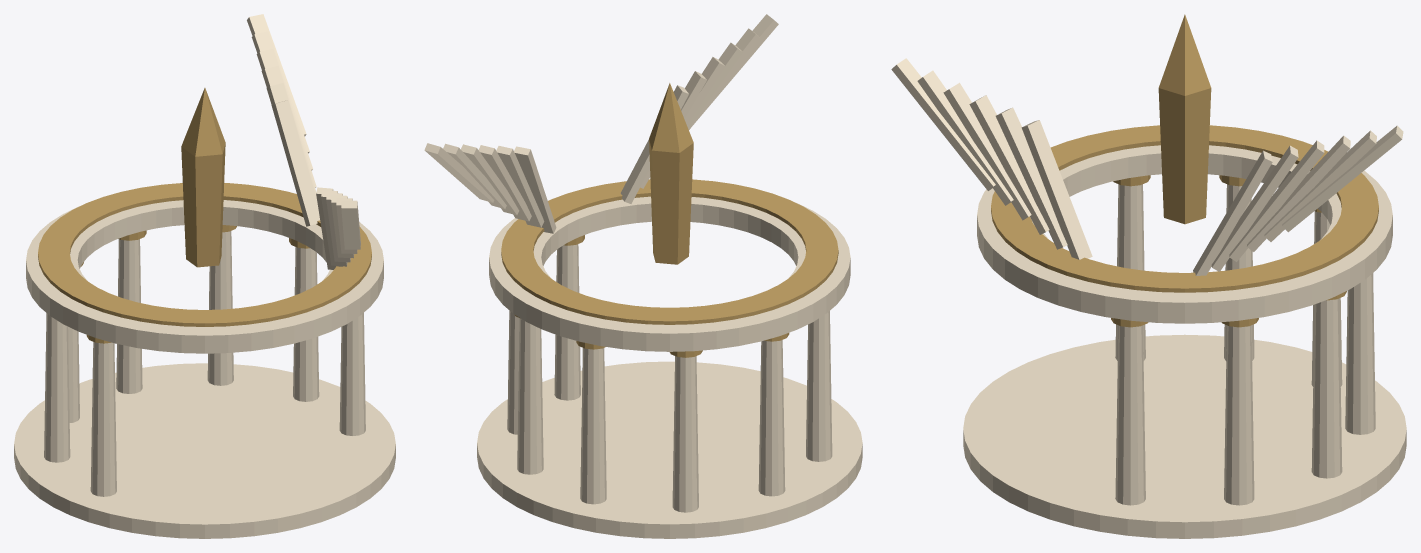
Rendered from Landmark_CelestialSummit.glb.
The picture shows the model from 3 angles, left to right: view 1: azimuth 30°, elevation 25°; view 2: azimuth 150°, elevation 25°; view 3: azimuth 270°, elevation 25°; orthographic projection. The views are drawn at different scales.
Visible parts, largest first — view 1: Landmark_CelestialSummit_CelestialSummit_stone_-6_1, Landmark_CelestialSummit_Aged gold_-6_1, Landmark_CelestialSummit_CelestialSummit_stone_-6_2; view 2: Landmark_CelestialSummit_CelestialSummit_stone_-6_1, Landmark_CelestialSummit_Aged gold_-6_1, Landmark_CelestialSummit_CelestialSummit_stone_-6_2; view 3: Landmark_CelestialSummit_CelestialSummit_stone_-6_1, Landmark_CelestialSummit_Aged gold_-6_1, Landmark_CelestialSummit_CelestialSummit_stone_-6_2.
Boxes of the visible parts, <box> form: Landmark_CelestialSummit_CelestialSummit_stone_-6_1: <box>14,65,395,538</box>; Landmark_CelestialSummit_Aged gold_-6_1: <box>38,88,371,343</box>; Landmark_CelestialSummit_CelestialSummit_stone_-6_2: <box>68,14,312,422</box>; Landmark_CelestialSummit_CelestialSummit_stone_-6_1: <box>477,14,862,538</box>; Landmark_CelestialSummit_Aged gold_-6_1: <box>501,83,838,341</box>; Landmark_CelestialSummit_CelestialSummit_stone_-6_2: <box>424,143,698,512</box>; Landmark_CelestialSummit_CelestialSummit_stone_-6_1: <box>891,58,1406,538</box>; Landmark_CelestialSummit_Aged gold_-6_1: <box>991,14,1378,327</box>; Landmark_CelestialSummit_CelestialSummit_stone_-6_2: <box>1247,125,1403,478</box>.
Bounding box in the file's own units: 96 × 103 × 112.
